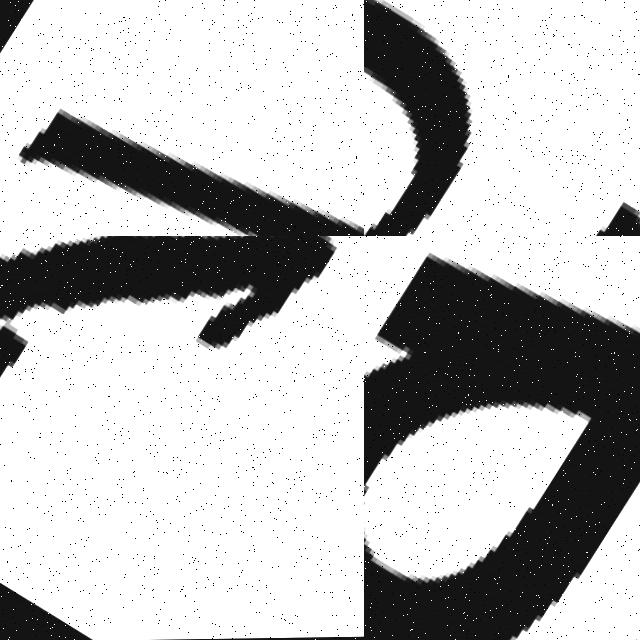6: (364, 0, 640, 236)
A: (364, 236, 640, 640)
J: (0, 236, 364, 640)
Q: (0, 18, 364, 236)
